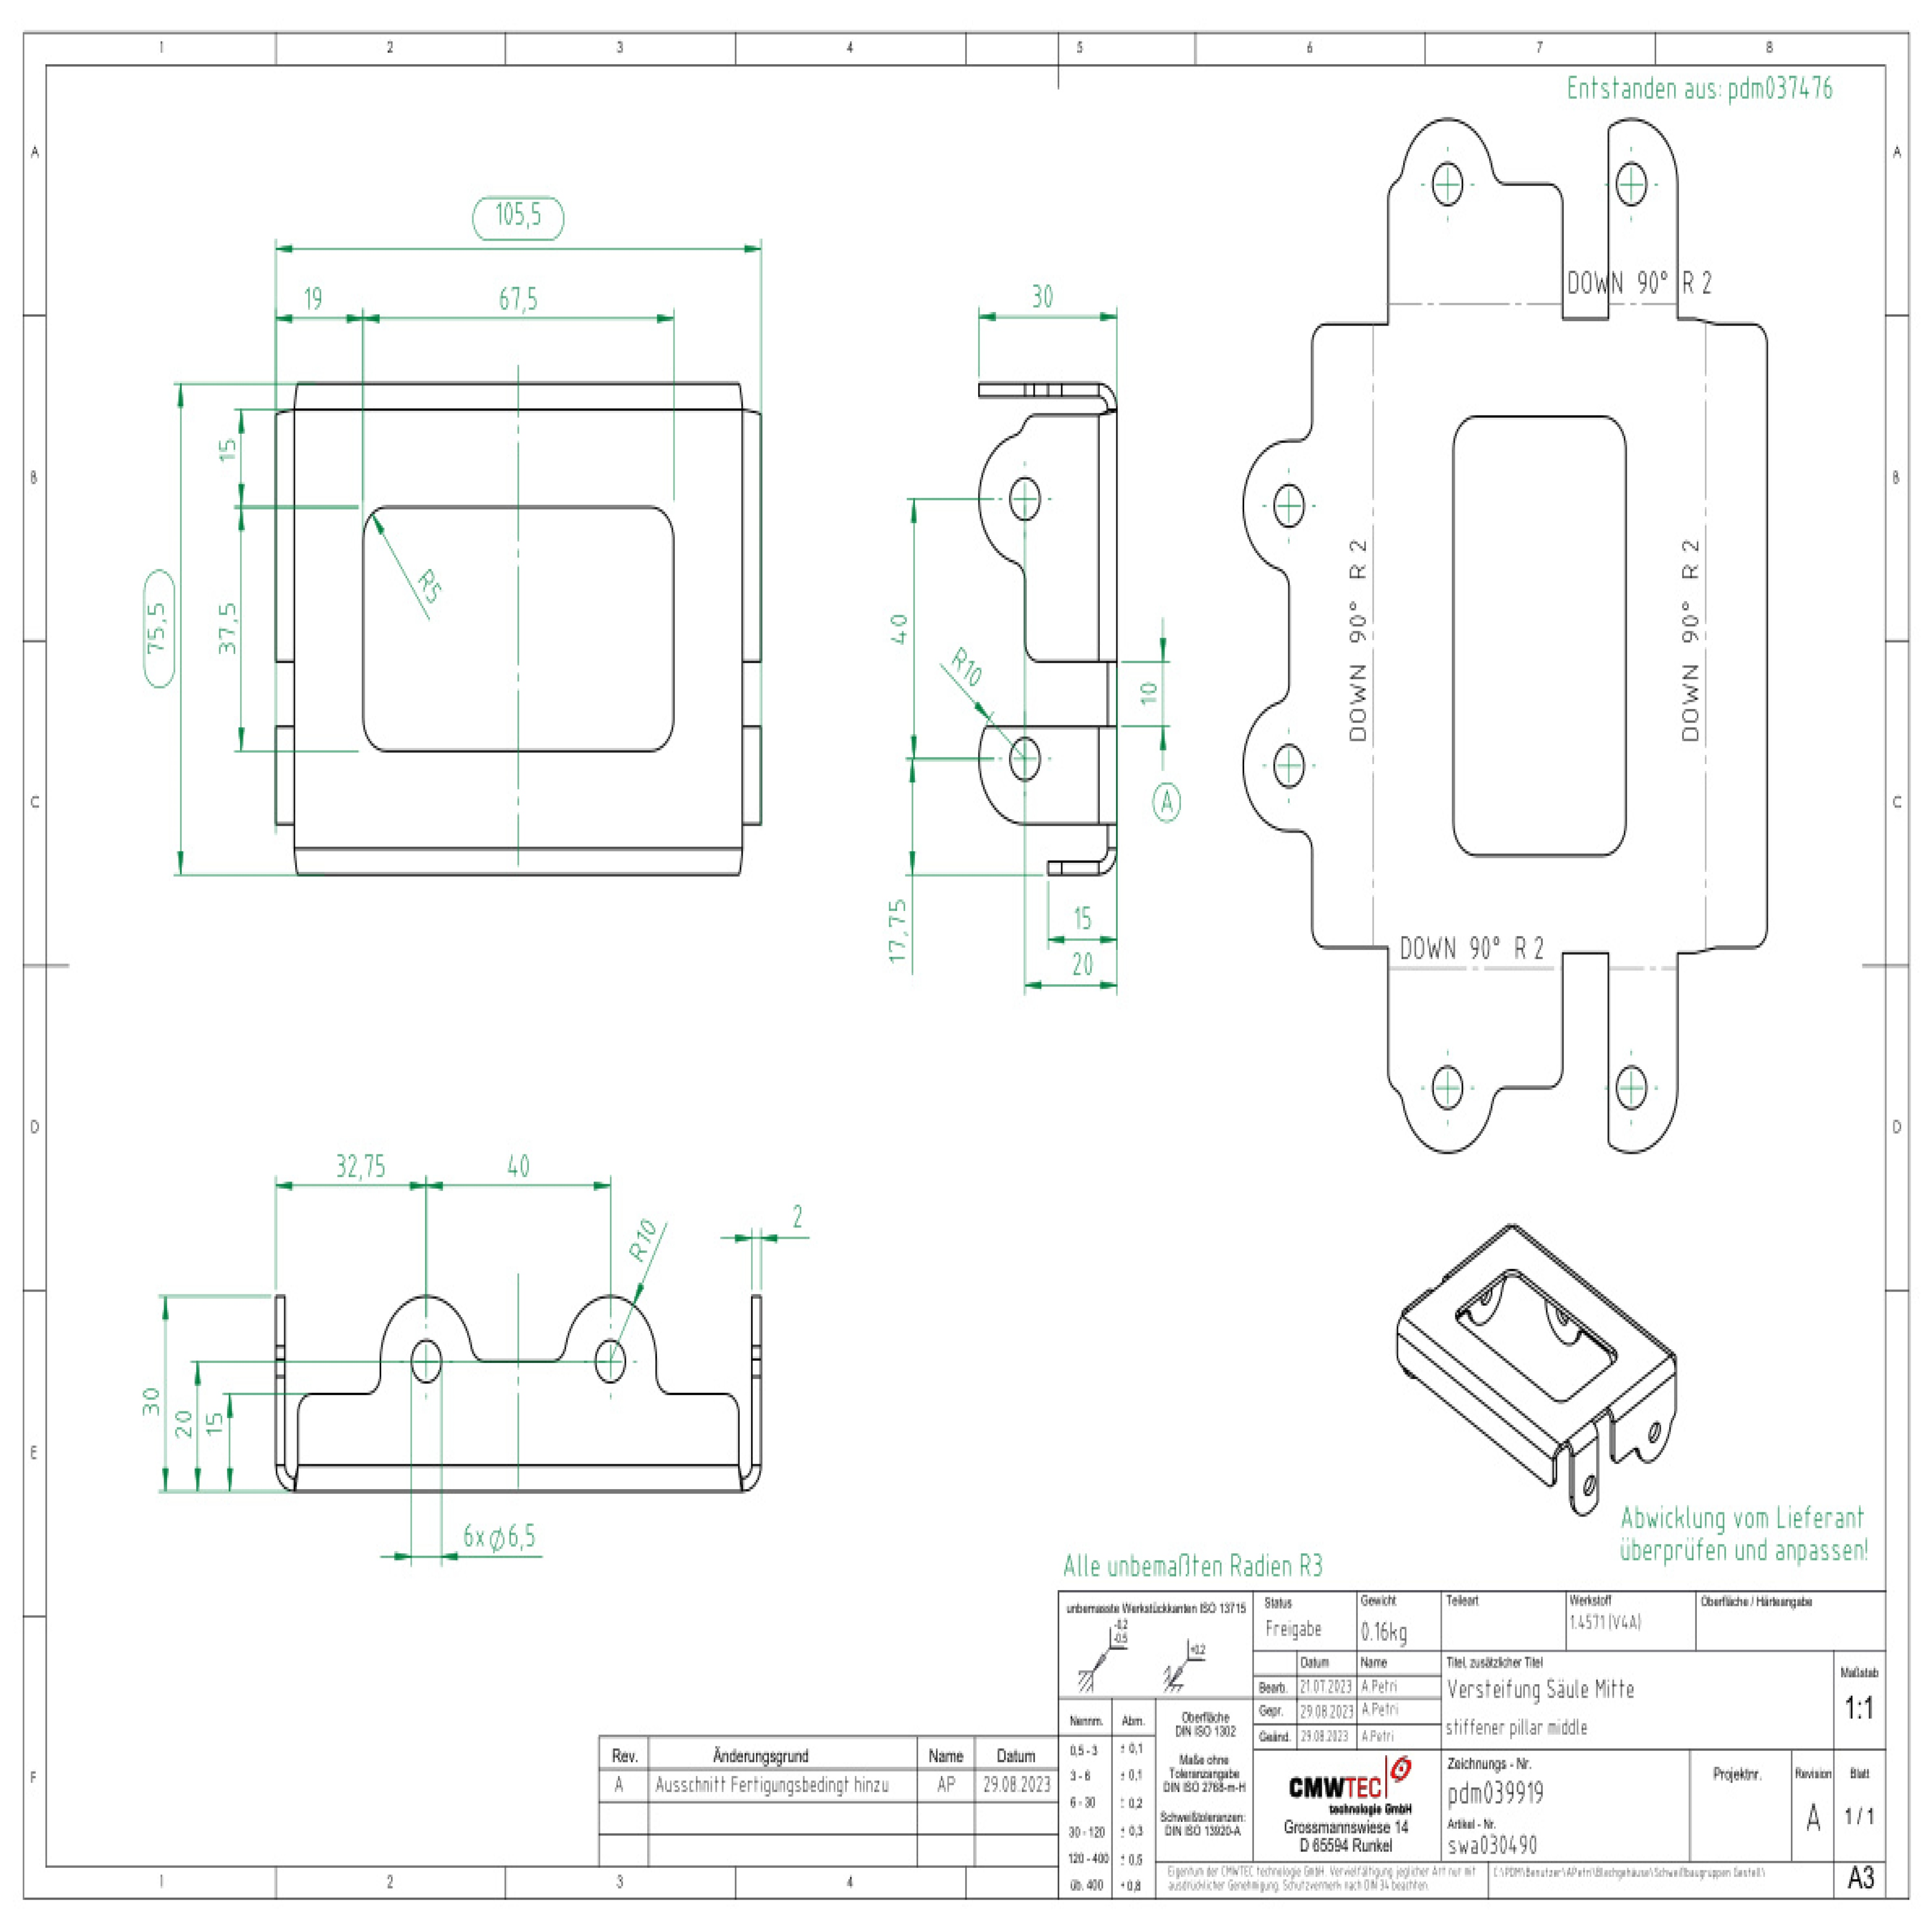BendingEdge: (288, 1460, 747, 1495), (1093, 409, 1122, 665), (1095, 720, 1122, 826)
BendingEdgeCurve: (1445, 405, 1637, 863), (271, 1460, 299, 1493), (736, 1461, 766, 1491), (1095, 379, 1120, 414), (1097, 840, 1118, 876)
InnerContour: (1426, 1065, 1472, 1113), (1426, 157, 1465, 207), (1269, 481, 1307, 531), (1617, 1062, 1652, 1115), (1614, 159, 1651, 209), (591, 1338, 628, 1387), (1005, 734, 1042, 782), (1269, 741, 1306, 789), (1005, 476, 1044, 520), (405, 1339, 442, 1385)
InnerContourAngular: (359, 501, 683, 759)
Notch: (1553, 117, 1615, 324), (978, 655, 1111, 732), (1553, 941, 1615, 1093), (444, 1300, 586, 1366), (1246, 538, 1295, 724)
